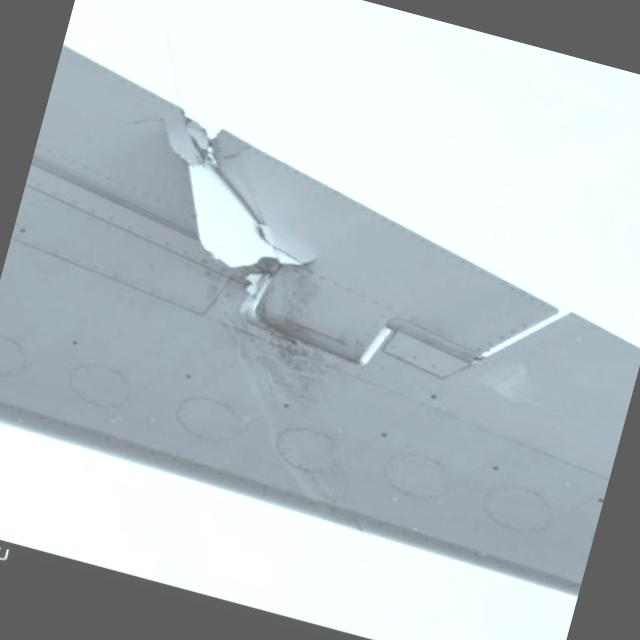crack: (116, 95, 345, 294)
